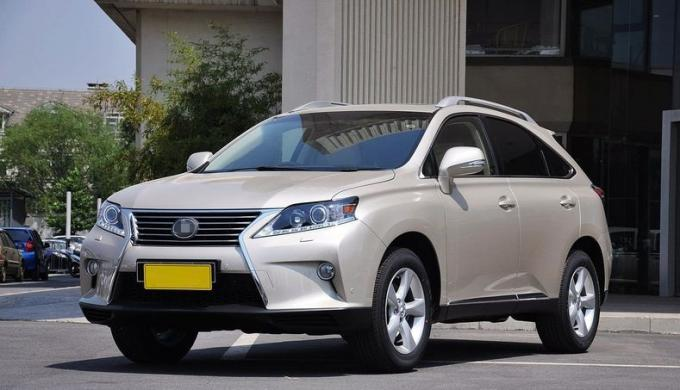pickup: (79, 98, 613, 372)
